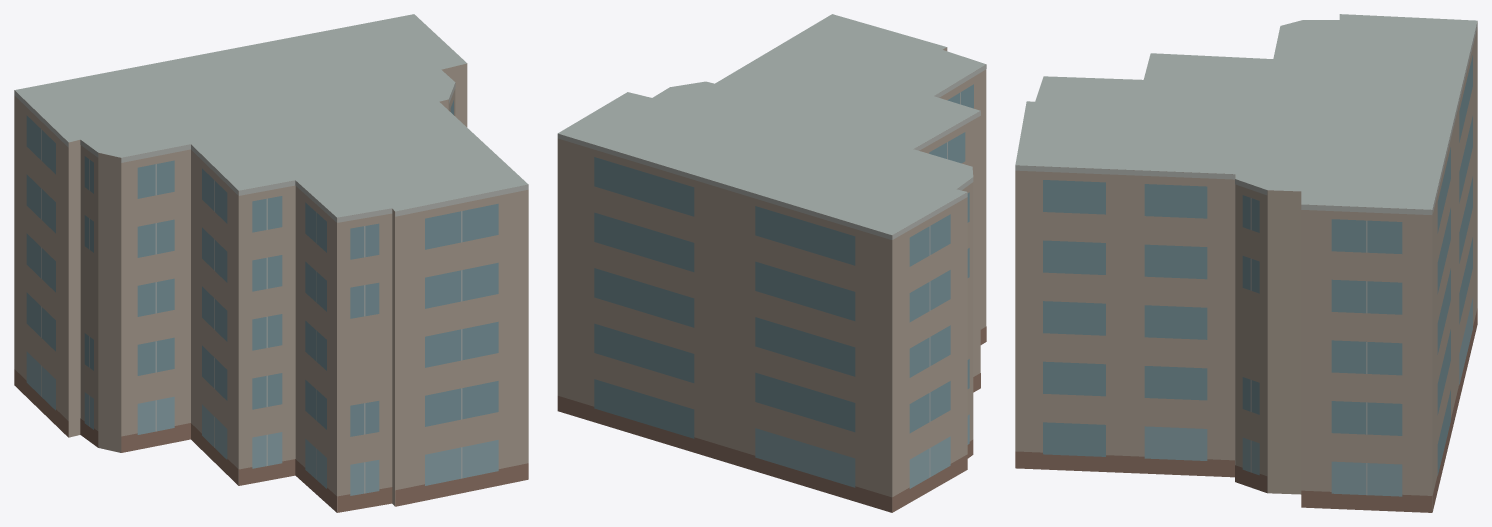
Rendered from survey-upis-32606895.glb.
3 renders of one model, left to right at view 1: azimuth 30°, elevation 25°; view 2: azimuth 150°, elevation 25°; view 3: azimuth 270°, elevation 25°, orthographic. The views are drawn at different scales.
Visible parts, largest first — view 1: survey-upis-32606895.tmp; view 2: survey-upis-32606895.tmp; view 3: survey-upis-32606895.tmp.
Part boxes in pixels (bbox=[...]): survey-upis-32606895.tmp: bbox=[14, 14, 528, 512]; survey-upis-32606895.tmp: bbox=[557, 14, 986, 512]; survey-upis-32606895.tmp: bbox=[1015, 14, 1477, 512].
Bounding box in the file's own units: 19.13 × 13.8 × 19.09.
